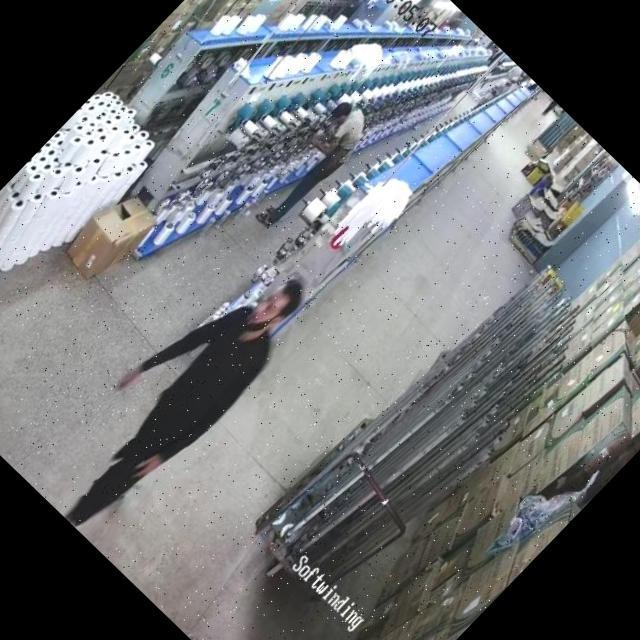person: (45, 270, 312, 544), (250, 97, 382, 231)
